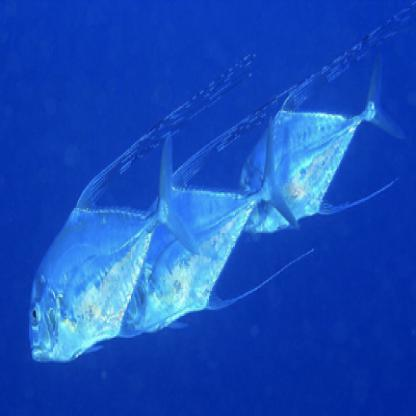Carangidae -Jacks-: (114, 109, 310, 342), (26, 131, 206, 372), (234, 37, 407, 239)
